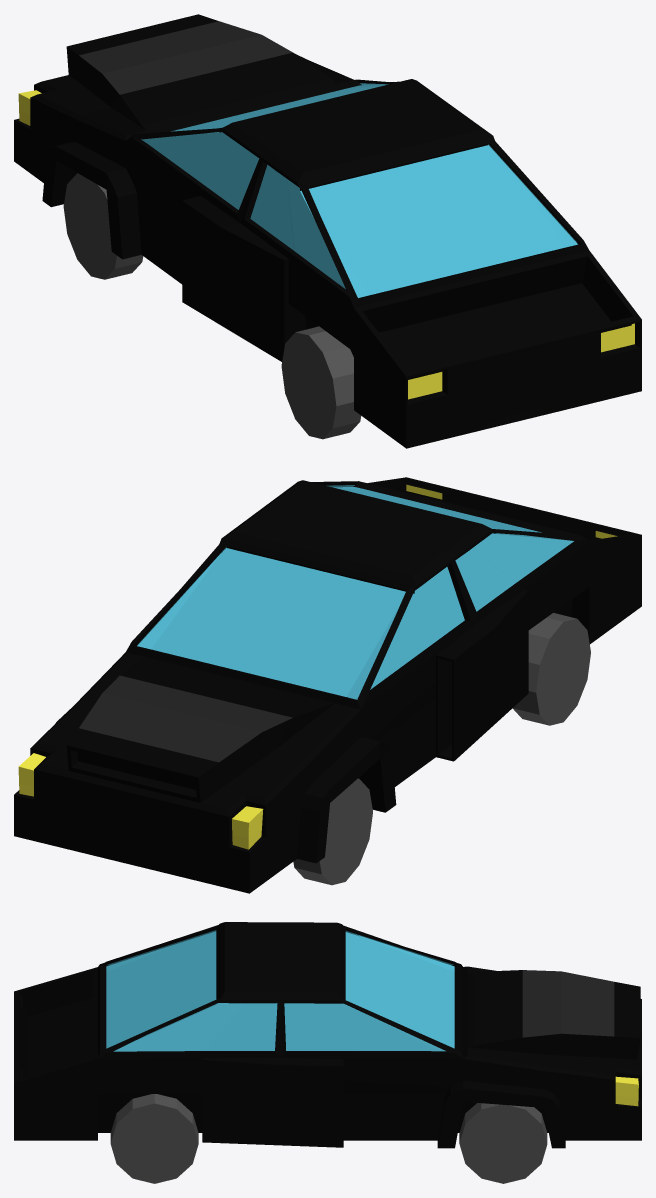
Rendered from MafiaCar.fbx.
3 views of the same model, one above another, from view 1: azimuth 30°, elevation 25°; view 2: azimuth 150°, elevation 25°; view 3: azimuth 270°, elevation 25° (orthographic). The views are drawn at different scales.
Visible parts, largest first — view 1: Police+.001; view 2: Police+.001; view 3: Police+.001.
Part boxes in pixels (box(x1,y1,x2,y2)): Police+.001: box(14, 14, 641, 448); Police+.001: box(14, 477, 641, 893); Police+.001: box(14, 922, 641, 1183).
Bounding box in the file's own units: 140 × 344 × 107.
Materials: 1 (1 with a texture image).
